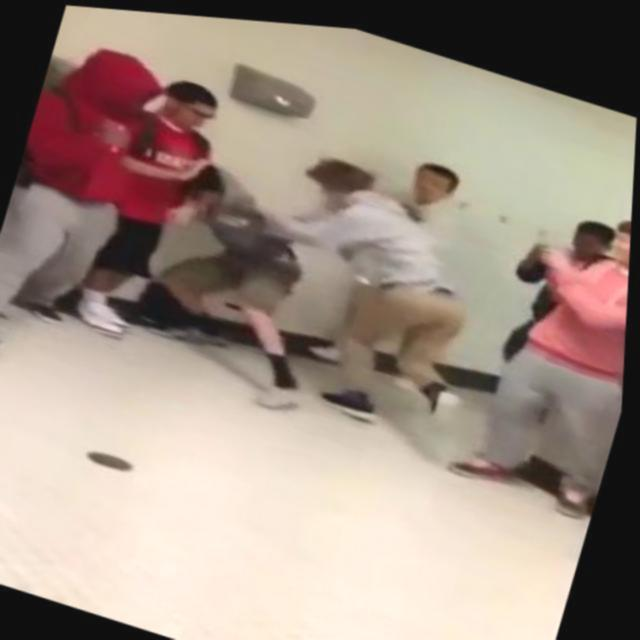fight: (121, 104, 521, 458)
